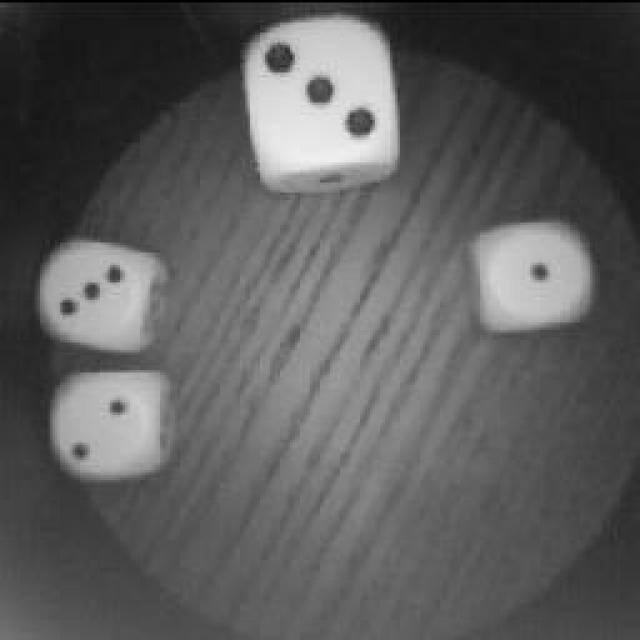dice_1: (462, 215, 598, 340)
dice_2: (43, 368, 165, 482)
dice_3: (237, 18, 405, 190), (28, 230, 152, 348)
